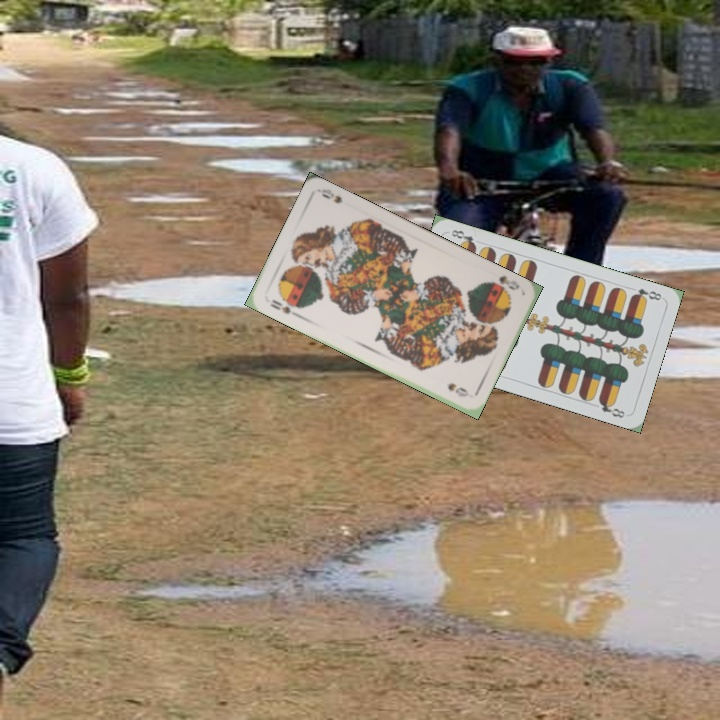E8: (628, 284, 664, 304)
SO: (265, 295, 303, 319), (483, 271, 522, 293)
